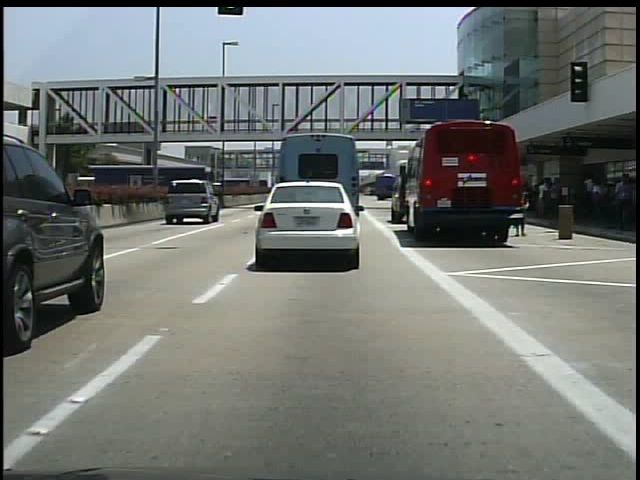person: (516, 187, 529, 237)
